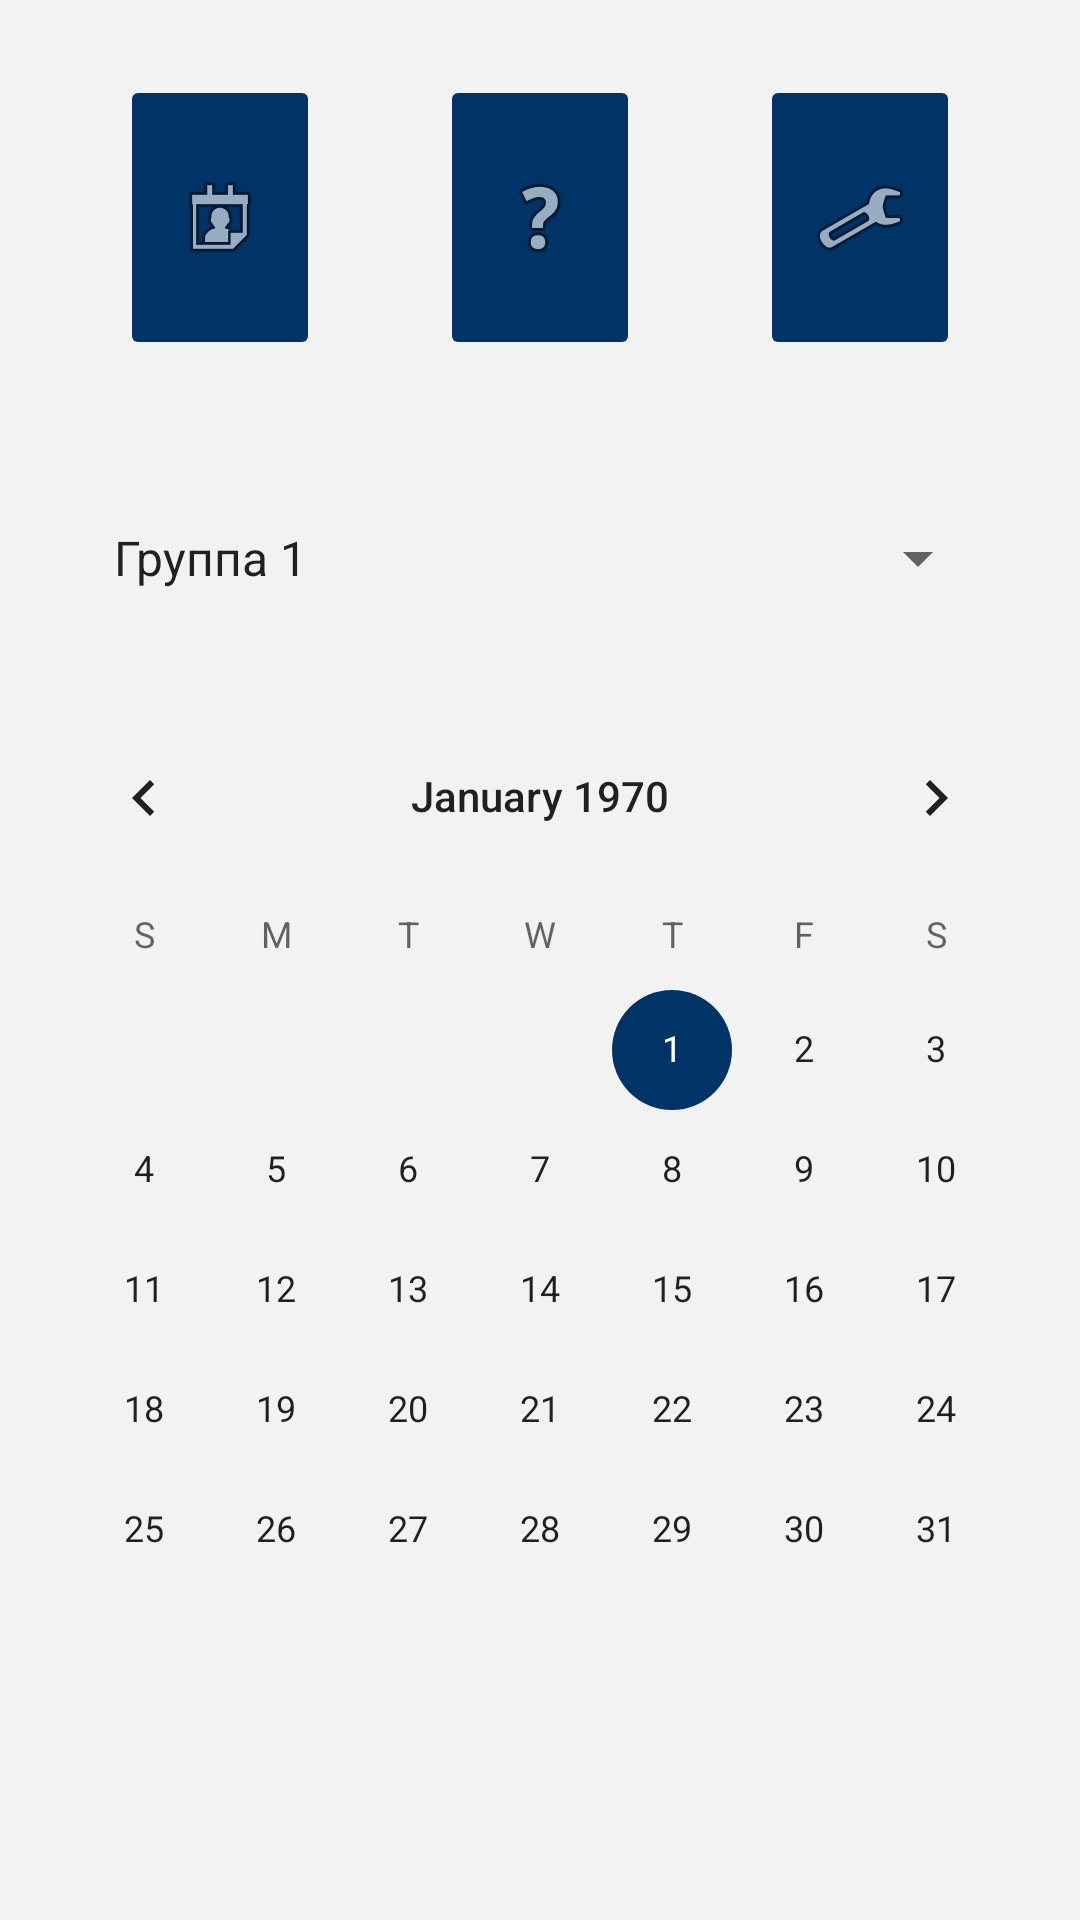

Locate icon controls on the screen. Image size 1080w x 1920h, boxes as (x1, y1, x2, y2).
Инструкция: (452, 93, 628, 342)
Настройки: (772, 93, 948, 342)
Профиль: (132, 93, 308, 342)
